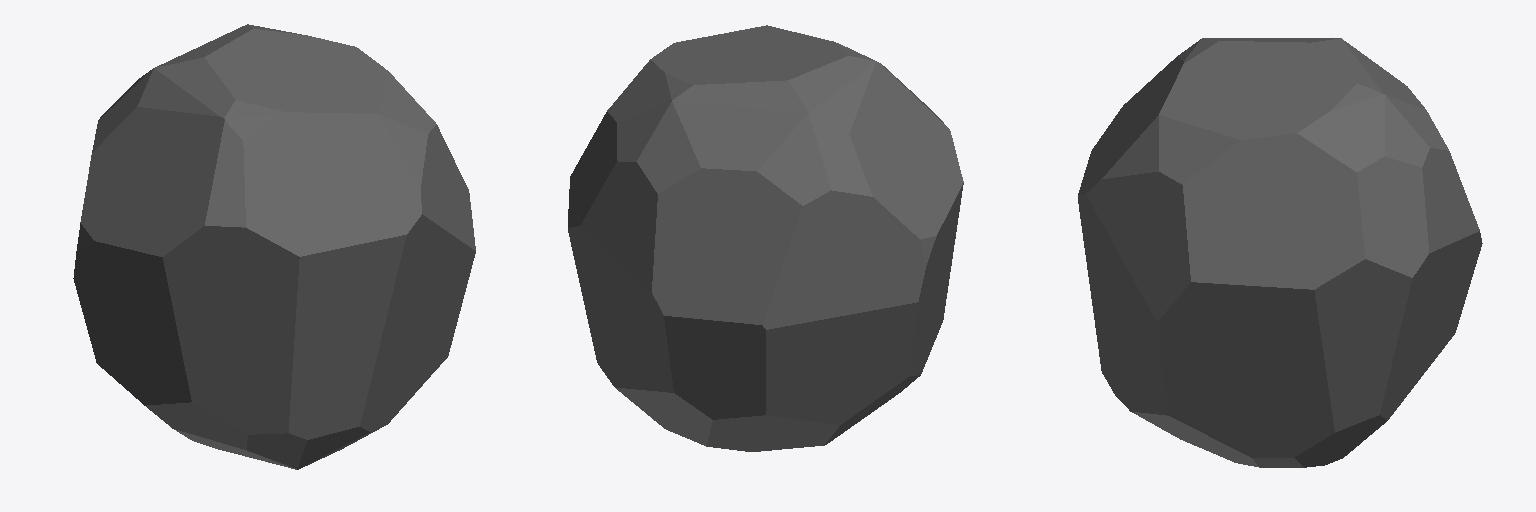
The picture shows the model from 3 angles: view 1: azimuth 30°, elevation 25°; view 2: azimuth 150°, elevation 25°; view 3: azimuth 270°, elevation 25°; orthographic projection.
Parts seen in each view (by area): view 1: ICO球_ICO球.002; view 2: ICO球_ICO球.002; view 3: ICO球_ICO球.002.
Part boxes in pixels (left/top/right/bottom): ICO球_ICO球.002: left=73, top=24, right=475, bottom=469; ICO球_ICO球.002: left=568, top=25, right=963, bottom=451; ICO球_ICO球.002: left=1078, top=38, right=1482, bottom=467.
Bounding box in the file's own units: 3.28 × 3.64 × 3.41.
1 materials, 1 textured.